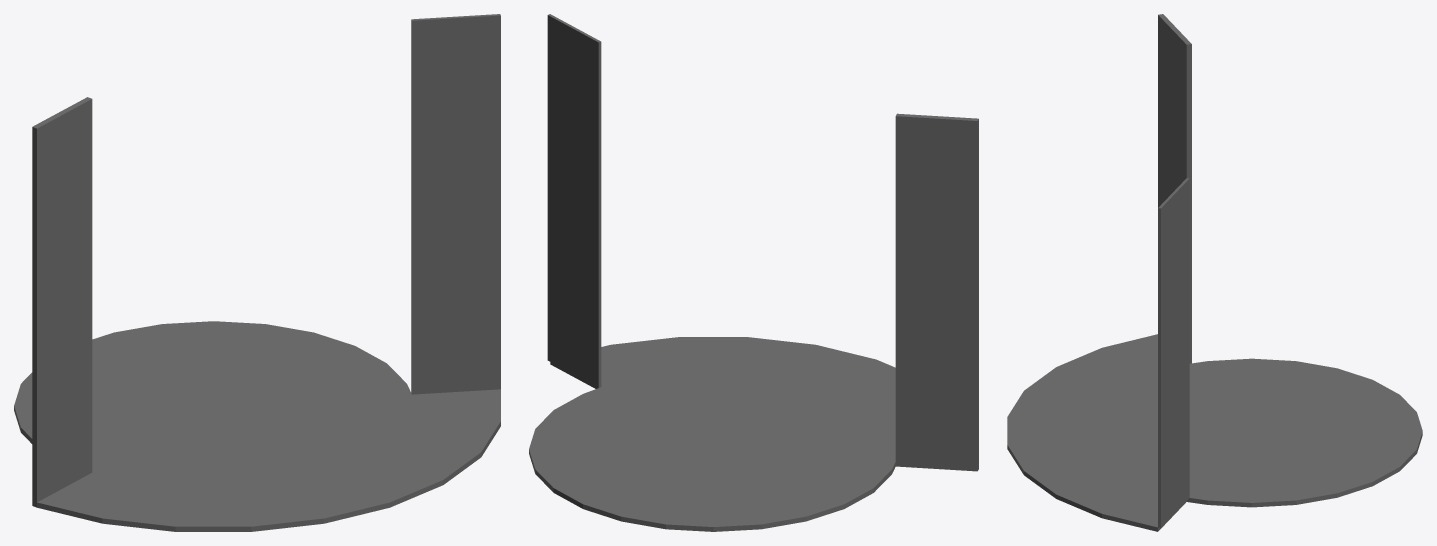
File: Dest_Hall_Field_SecondFloor_Physic.FBX
3 renders of one model, left to right at view 1: azimuth 30°, elevation 25°; view 2: azimuth 150°, elevation 25°; view 3: azimuth 270°, elevation 25°, orthographic. The views are drawn at different scales.
Visible parts, largest first — view 1: Cylinder009; view 2: Cylinder009; view 3: Cylinder009.
Part boxes in pixels (left/top/right/bottom): Cylinder009: left=14, top=14, right=500, bottom=531; Cylinder009: left=529, top=14, right=978, bottom=531; Cylinder009: left=1007, top=14, right=1422, bottom=531.
Size of the model in its own units: 242 by 188 by 218.
